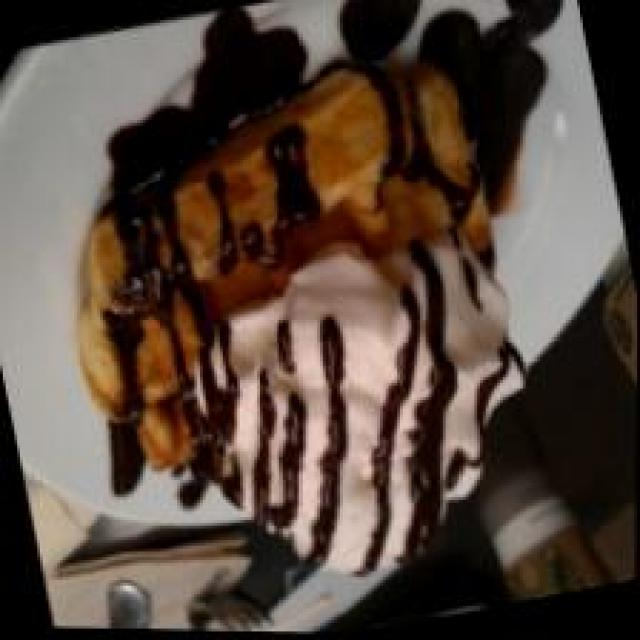Waffles: (29, 46, 548, 534)
